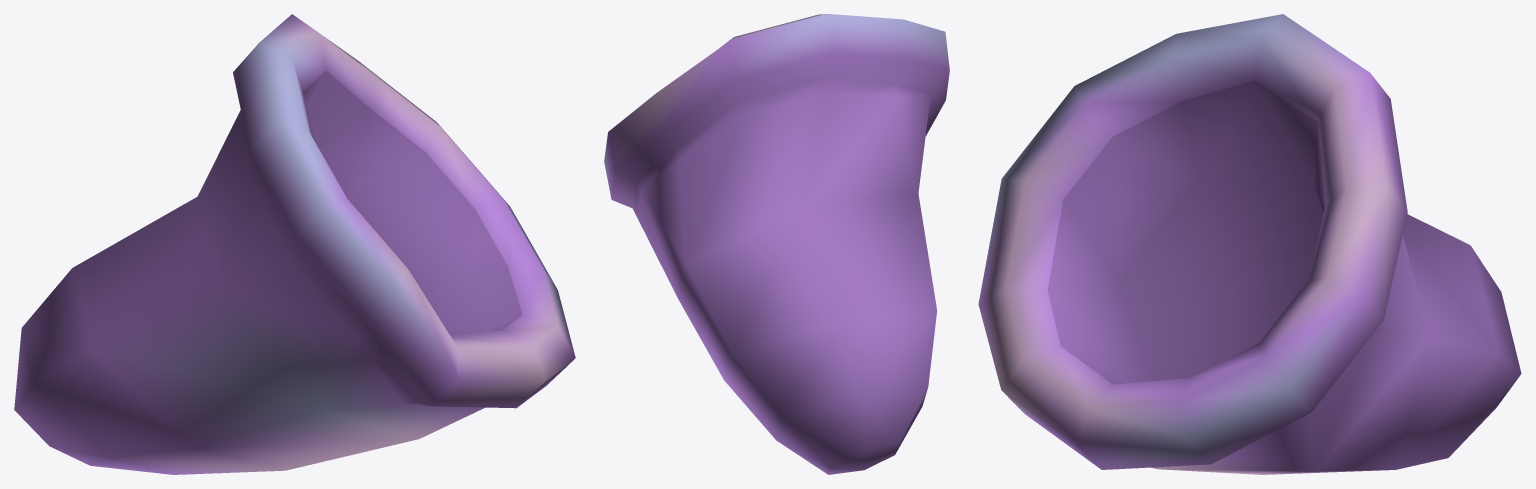
Rendered from CoralPipeCPurple_14.glb.
3 views of the same model, side by side, from view 1: azimuth 30°, elevation 25°; view 2: azimuth 150°, elevation 25°; view 3: azimuth 270°, elevation 25° (orthographic). The views are drawn at different scales.
Visible parts, largest first — view 1: CoralPipeCPurple; view 2: CoralPipeCPurple; view 3: CoralPipeCPurple.
Part boxes in pixels (box(x1,y1,x2,y2)): CoralPipeCPurple: box(14, 14, 575, 474); CoralPipeCPurple: box(604, 14, 949, 474); CoralPipeCPurple: box(978, 14, 1521, 474).
Bounding box in the file's own units: 0.3749 × 0.3773 × 0.3912.
